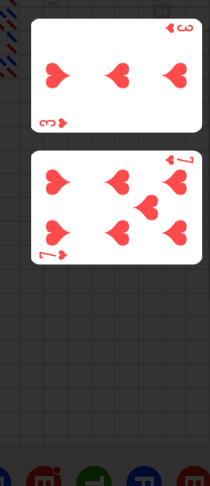3H: (162, 22, 194, 35)
7H: (38, 248, 70, 261)
